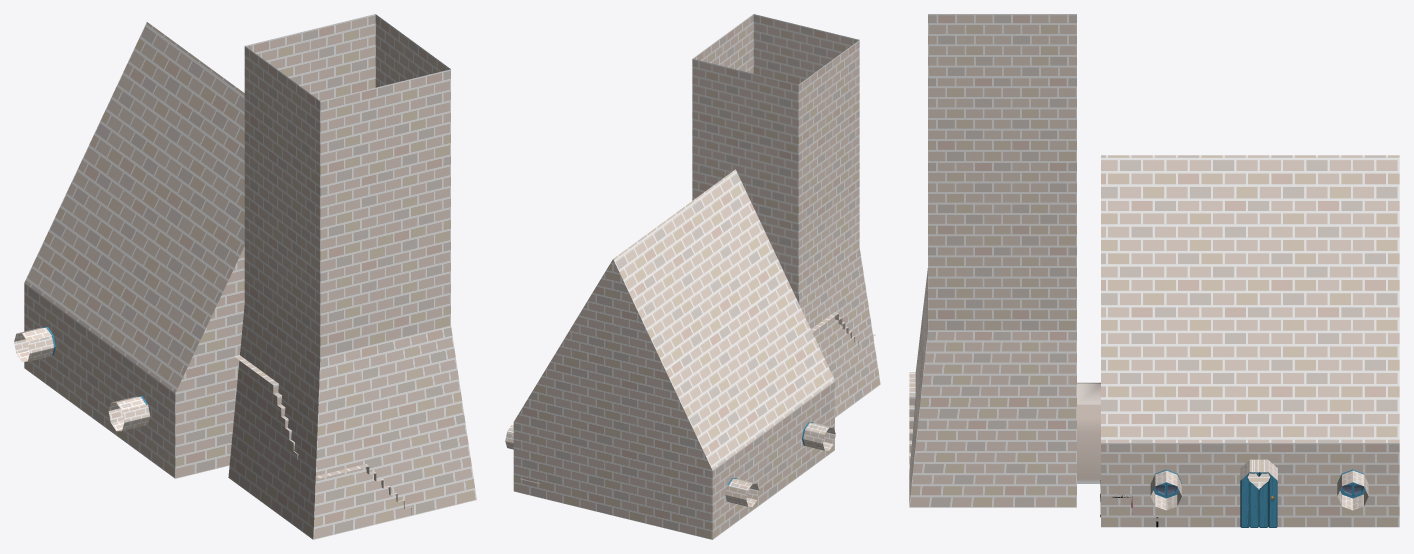
The model's file is island_inside.fbx.
The picture shows the model from 3 angles, left to right: view 1: azimuth 30°, elevation 25°; view 2: azimuth 150°, elevation 25°; view 3: azimuth 270°, elevation 25°; orthographic projection. The views are drawn at different scales.
Parts seen in each view (by area): view 1: house walls and tower.001, house walls and tower, roof, house walls and tower.002; view 2: house walls and tower, roof, house walls and tower.002, house walls and tower.001; view 3: roof, house walls and tower.001, house walls and tower, door, windows.
Part boxes in pixels (<box>): house walls and tower.001: <box>313,14,476,539</box>; house walls and tower: <box>14,46,320,539</box>; roof: <box>24,22,244,392</box>; house walls and tower.002: <box>245,14,375,100</box>; house walls and tower: <box>505,40,880,539</box>; roof: <box>613,169,834,470</box>; house walls and tower.002: <box>692,59,799,304</box>; house walls and tower.001: <box>692,14,859,84</box>; roof: <box>1101,155,1399,442</box>; house walls and tower.001: <box>909,77,1076,507</box>; house walls and tower: <box>928,14,1399,527</box>; door: <box>1240,472,1277,527</box>; windows: <box>1153,469,1365,498</box>.
Bounding box in the file's own units: 727 × 1000 × 1052.
Materials: 7 (6 with a texture image).
